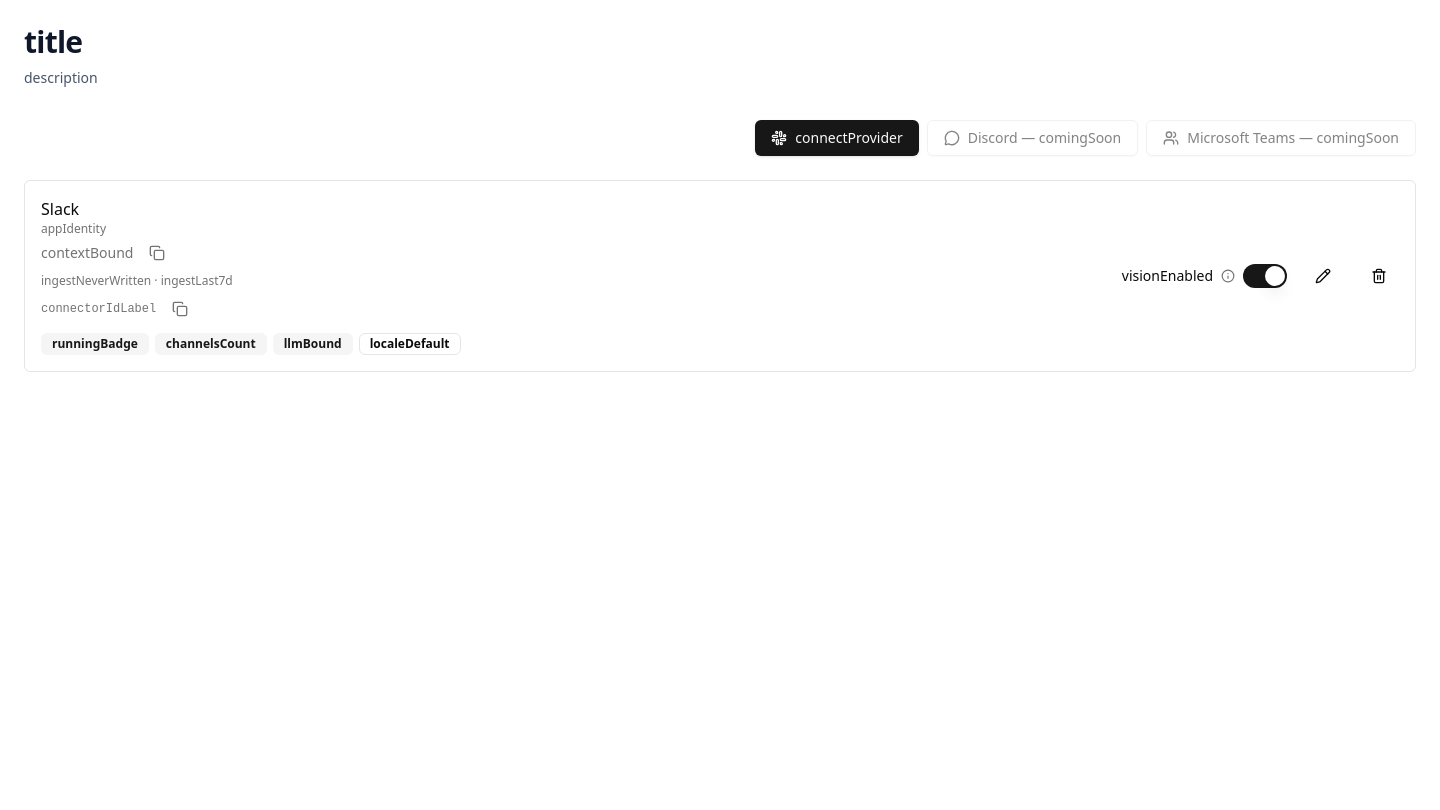
ConnectorsPage RBAC gate › says membership is unverified for selections on unloaded pages (#1451)
Expected: the button "connectProvider" is shown, left=755, top=120, right=919, bottom=156
Click the button named "editSettings": [1323, 276] box left=1303, top=260, right=1343, bottom=292
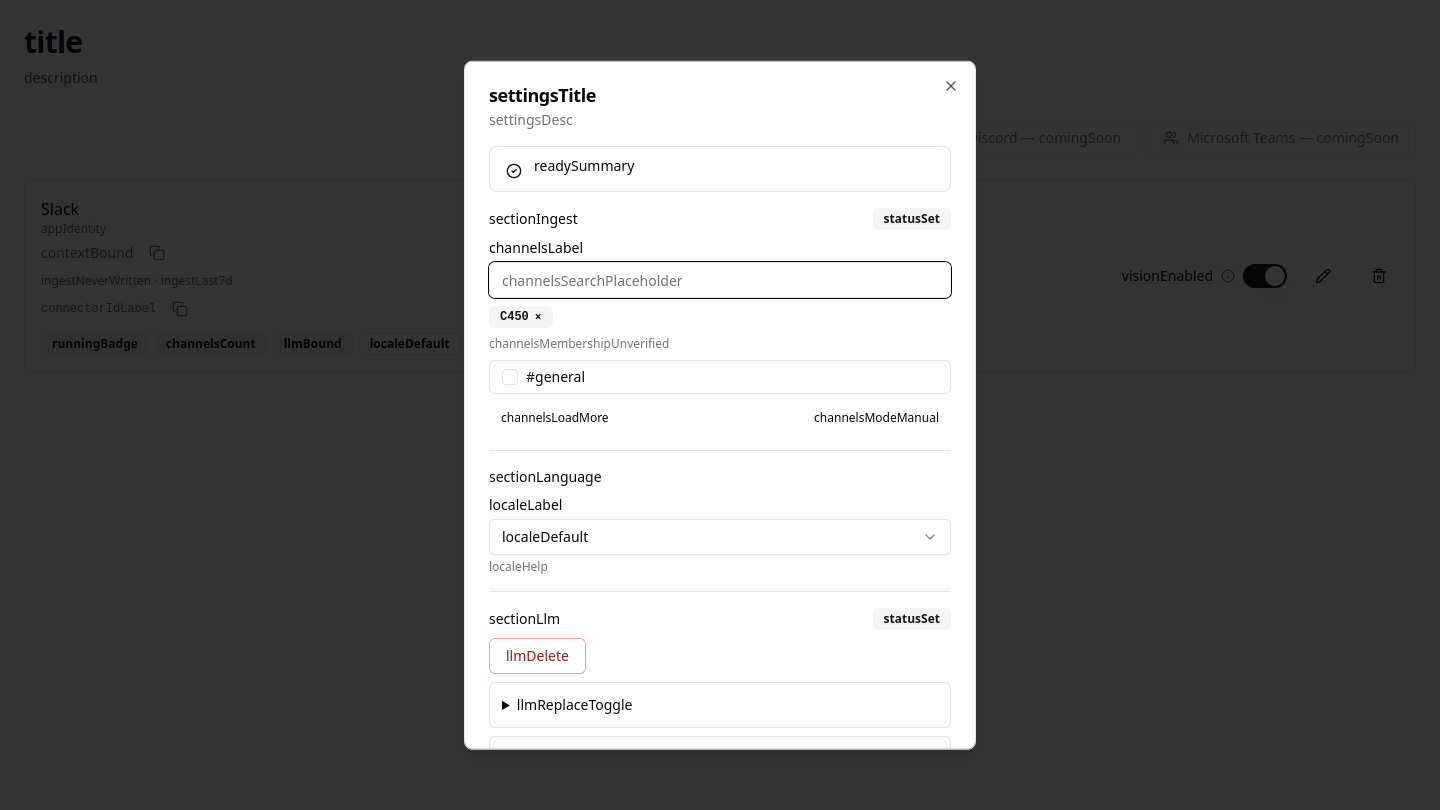
Expected: the text "channelsMembershipUnverified" is shown, left=489, top=335, right=670, bottom=352
